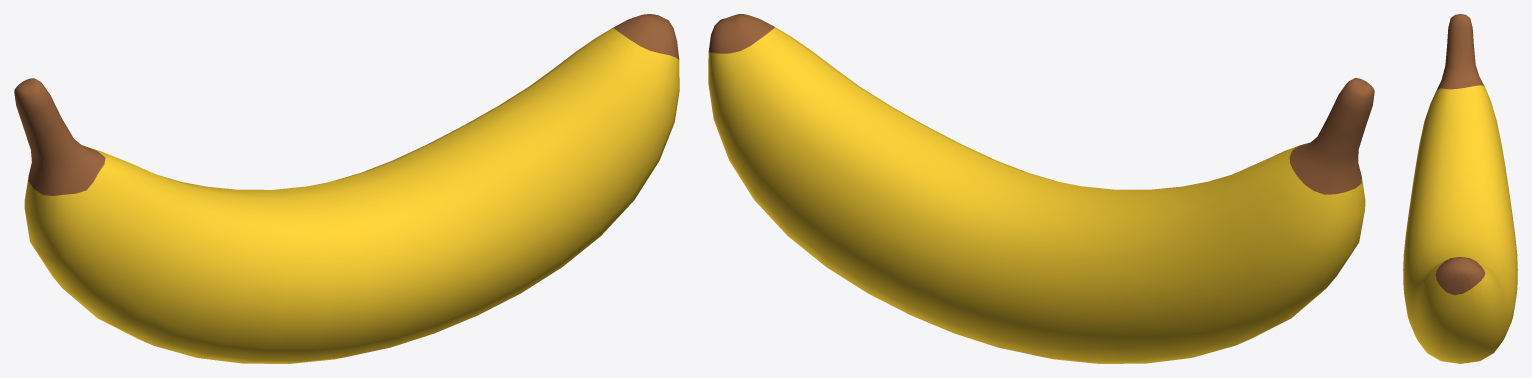
File: Banana.fbx
3 views of the same model, side by side, from view 1: azimuth 30°, elevation 25°; view 2: azimuth 150°, elevation 25°; view 3: azimuth 270°, elevation 25° (orthographic). The views are drawn at different scales.
Parts seen in each view (by area): view 1: Cube; view 2: Cube; view 3: Cube.
Boxes of the visible parts, x1,y1,x2,y2 form: Cube: (14, 14, 679, 363); Cube: (708, 14, 1374, 363); Cube: (1403, 14, 1517, 363).
Bounding box in the file's own units: 3.65 × 0.8763 × 1.82.
